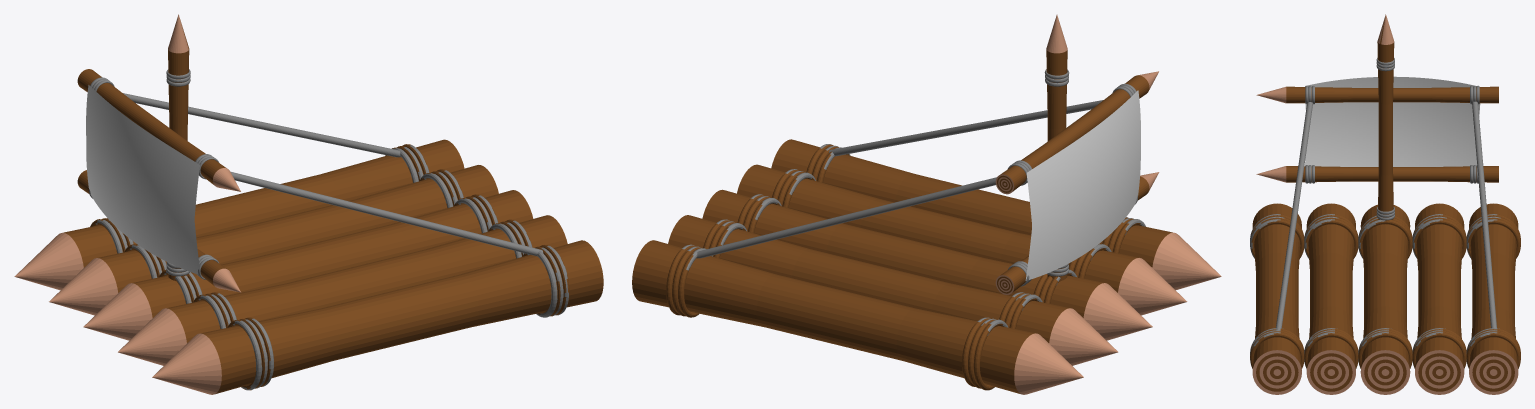
The model's file is ship.fbx.
The picture shows the model from 3 angles, left to right: view 1: azimuth 30°, elevation 25°; view 2: azimuth 150°, elevation 25°; view 3: azimuth 270°, elevation 25°; orthographic projection. The views are drawn at different scales.
Parts seen in each view (by area): view 1: Cylinder.005; view 2: Cylinder.005; view 3: Cylinder.005.
Boxes of the visible parts, box(x1,y1,x2,y2) form: Cylinder.005: box(14, 14, 603, 394); Cylinder.005: box(632, 14, 1221, 394); Cylinder.005: box(1250, 14, 1520, 394).
Size of the model in its own units: 1599 by 1130 by 1094.
